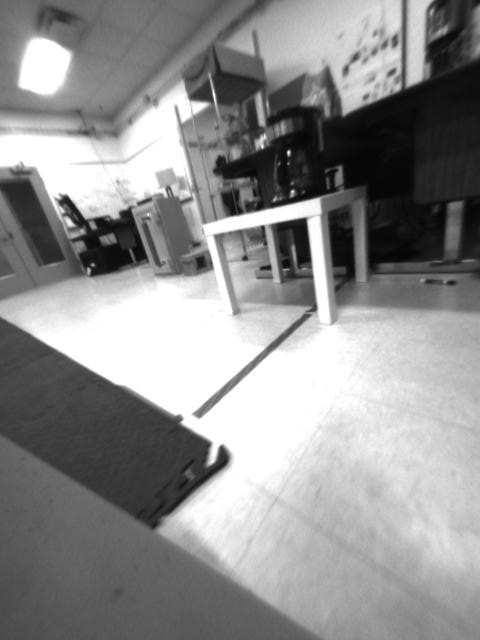coffee_pot: (262, 104, 340, 202)
